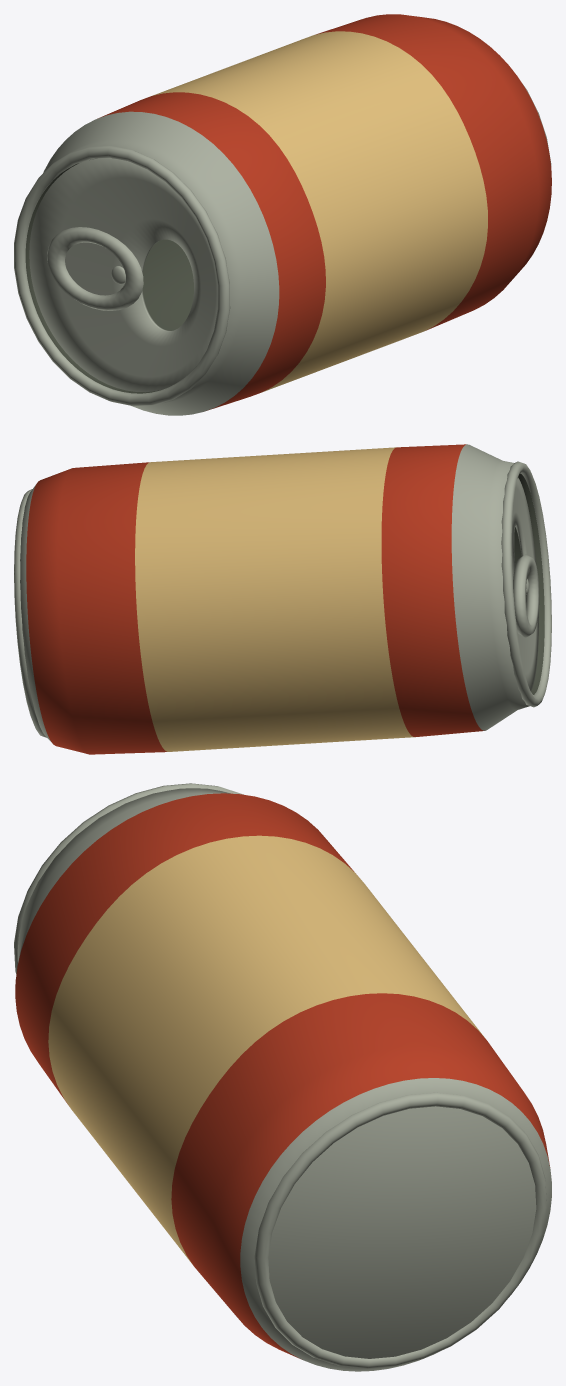
The model's file is empty_drink_can.glb.
The picture shows the model from 3 angles, top to bottom: view 1: azimuth 30°, elevation 25°; view 2: azimuth 150°, elevation 25°; view 3: azimuth 270°, elevation 25°; orthographic projection. The views are drawn at different scales.
Visible parts, largest first — view 1: CanBody, OpenLid, TopRim, PullTab; view 2: CanBody, TopRim, OpenLid, PullTab, BottomRim; view 3: CanBody, BottomRim, TopRim.
Boxes of the visible parts, x1,y1,x2,y2 form: CanBody: [25, 14, 551, 415]; OpenLid: [29, 158, 217, 392]; TopRim: [14, 146, 230, 406]; PullTab: [47, 227, 143, 310]; CanBody: [20, 444, 544, 754]; TopRim: [501, 461, 551, 707]; OpenLid: [511, 477, 538, 691]; PullTab: [513, 554, 539, 637]; BottomRim: [14, 489, 46, 737]; CanBody: [15, 788, 551, 1371]; BottomRim: [254, 1092, 546, 1368]; TopRim: [14, 783, 244, 973].
Size of the model in its own units: 1.34 by 0.8018 by 1.02.
